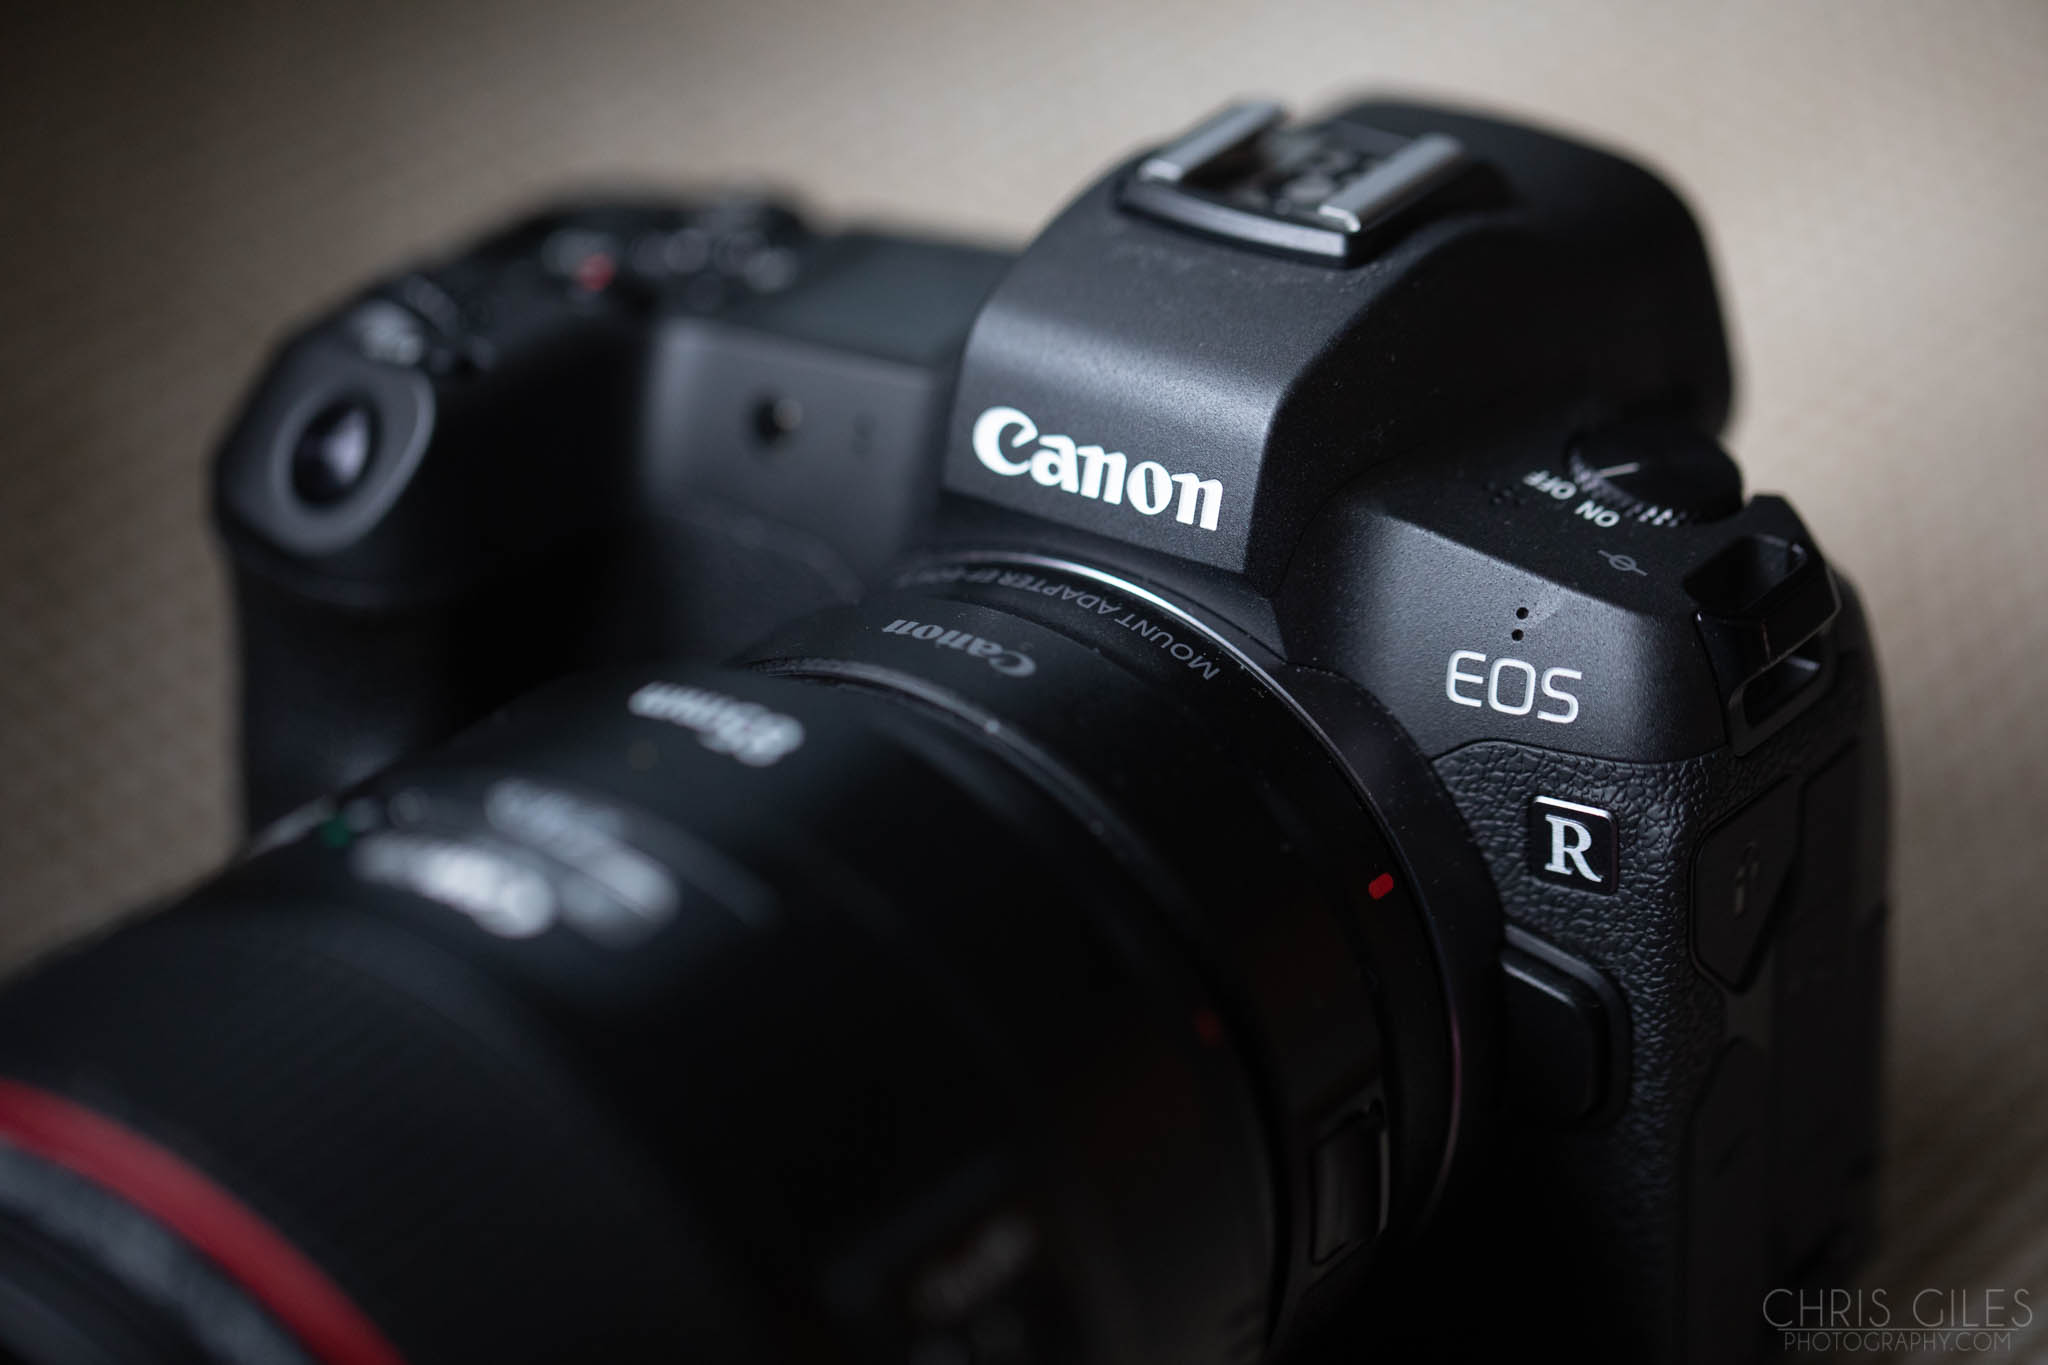camera: (43, 161, 1871, 1328)
